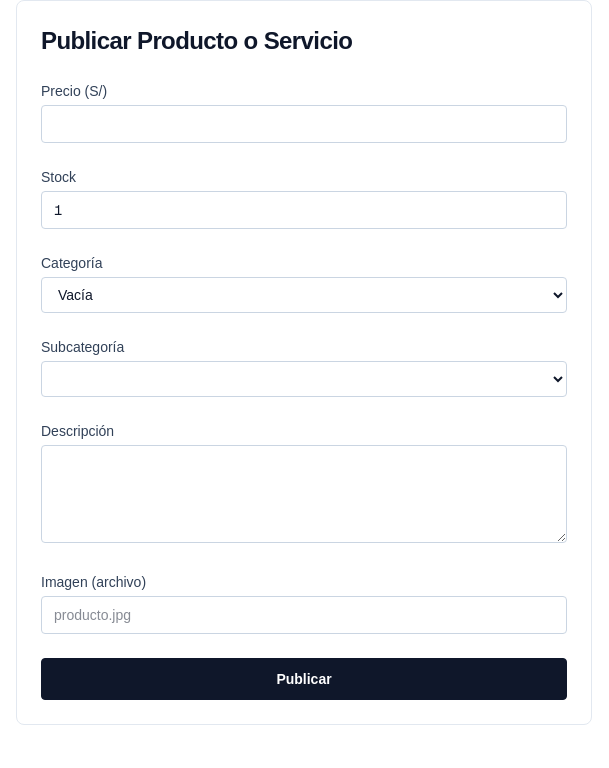
Test: PublicacionForm (PHA06TSK10) › bloquea precio/stock inválidos y catálogo sin subcategorías sin fabricar IDs
Type "1.001" into the field labelled "Precio (S/)". click: (304, 124)
box: top-left (41, 105), bottom-right (567, 143)
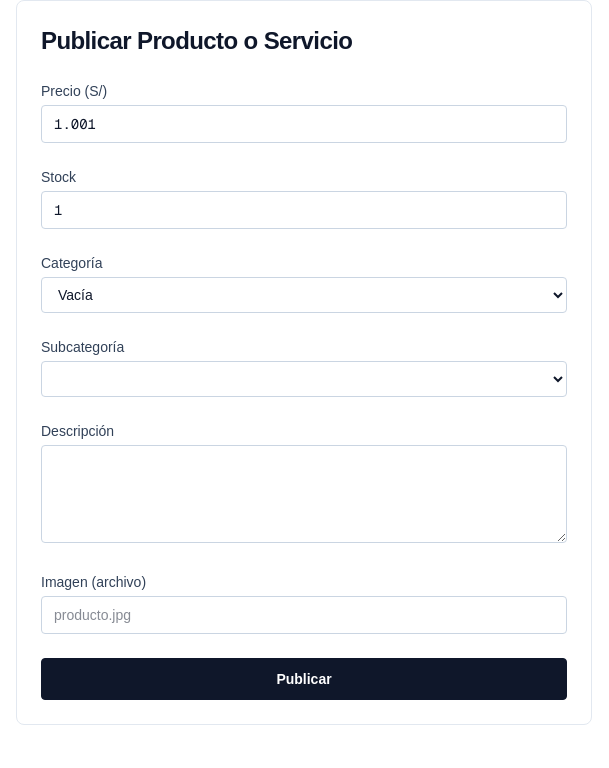
Replace the text in the field labelled "Stock" with "0". click: (304, 210)
box: top-left (41, 191), bottom-right (567, 229)
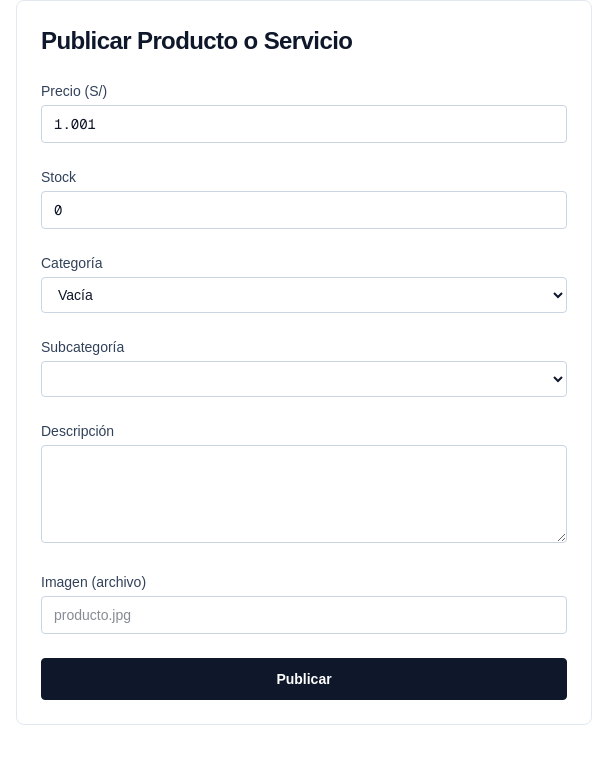
Click the button "Publicar". click: (304, 679)
box: top-left (41, 658), bottom-right (567, 700)
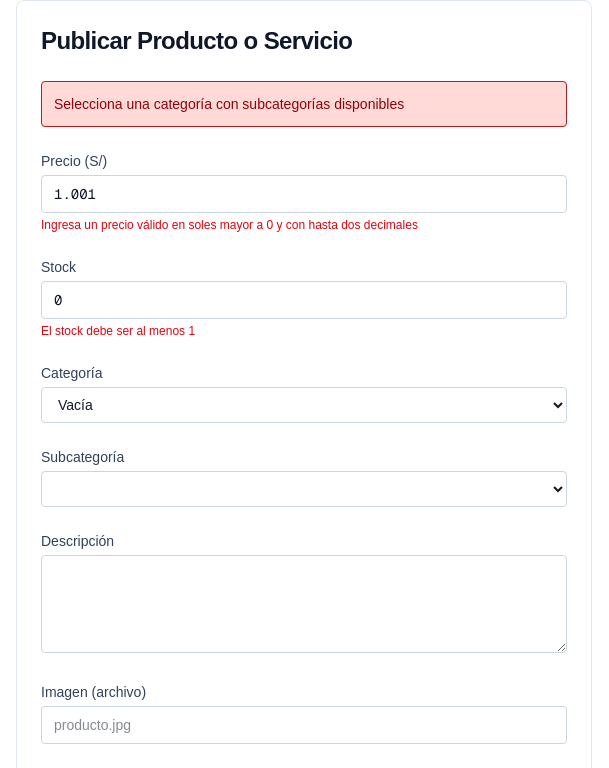
Expected: the text "precio válido en soles" is shown, top-left (41, 218), bottom-right (418, 232)
Expected: the text "El stock debe ser al menos 1" is shown, top-left (41, 324), bottom-right (195, 338)
Expected: the text "Selecciona una categoría con subcategorías disponibles" is shown, top-left (41, 81), bottom-right (567, 127)
